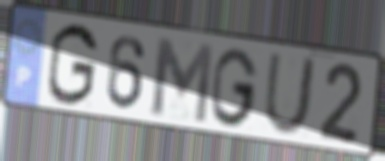2: (318, 60, 365, 148)
6: (106, 34, 147, 111)
G: (45, 21, 101, 109), (209, 46, 261, 130)
M: (149, 34, 216, 127)
U: (261, 51, 319, 138)
